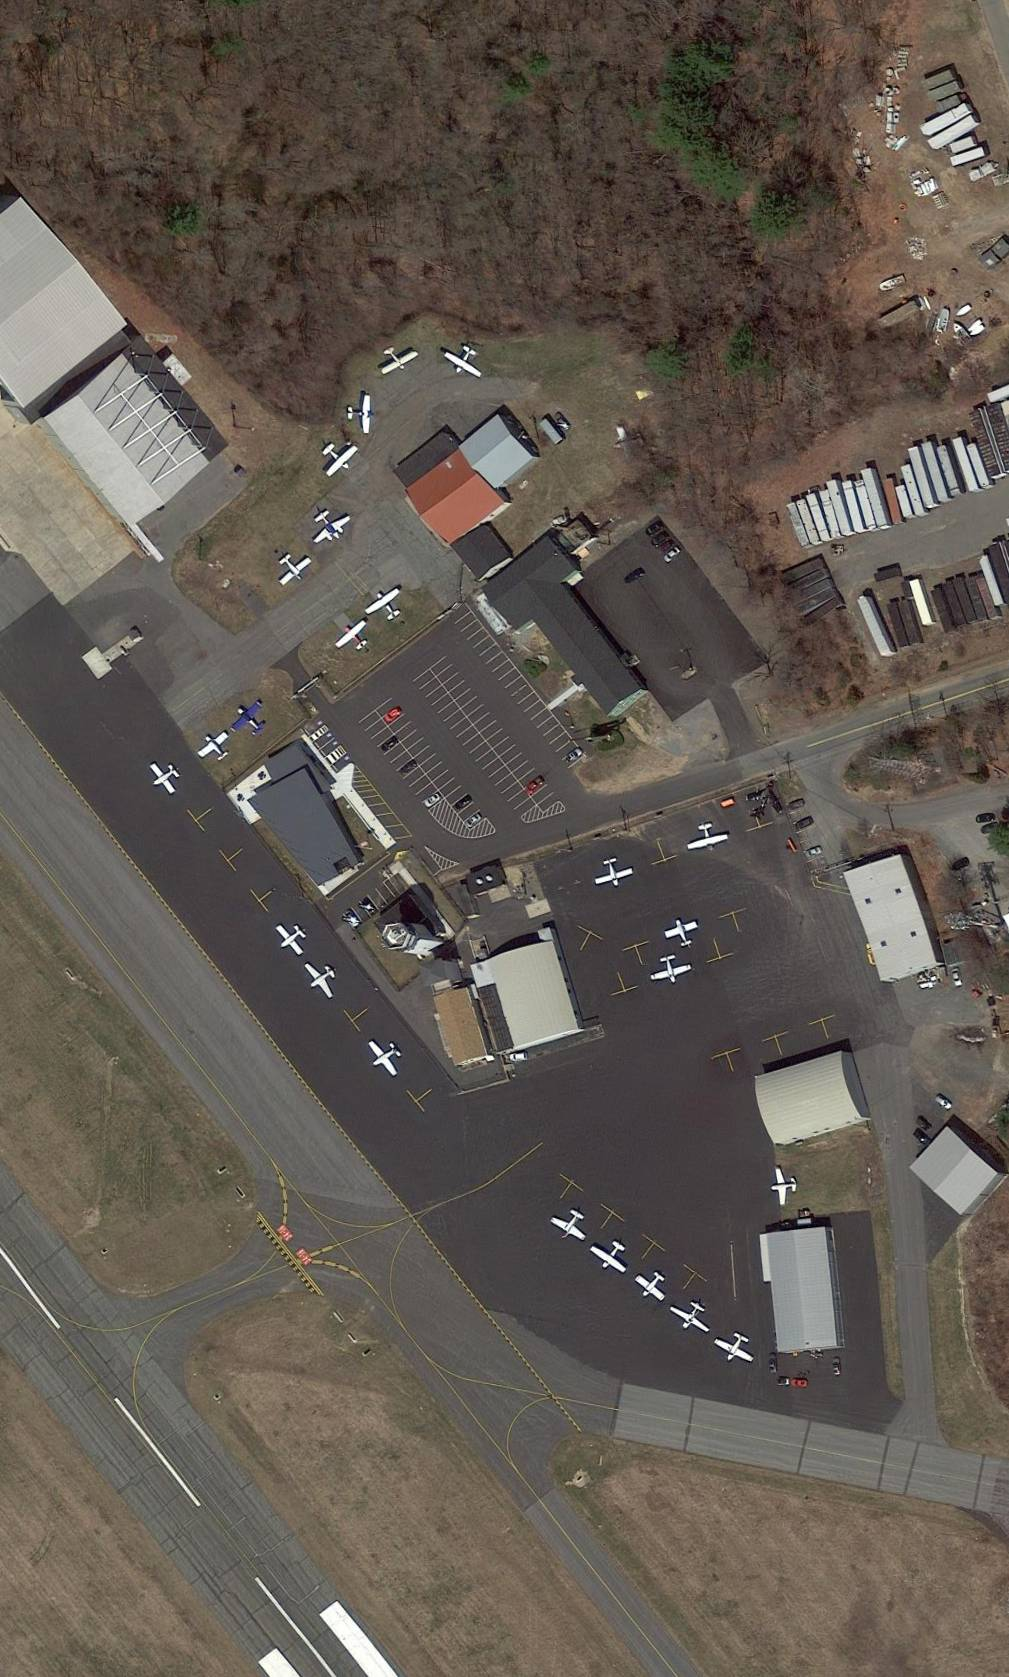plane: (302, 501, 356, 551), (314, 432, 364, 483), (665, 1292, 718, 1340), (361, 1031, 410, 1082), (225, 695, 273, 746), (362, 581, 411, 629), (298, 953, 346, 1003), (586, 1233, 638, 1278), (709, 1326, 761, 1370), (546, 1203, 596, 1247), (268, 546, 318, 591), (440, 340, 490, 383), (332, 615, 377, 659), (374, 338, 421, 380), (270, 916, 314, 959), (144, 753, 186, 799), (194, 726, 235, 770), (590, 854, 636, 892), (632, 1264, 673, 1306), (648, 952, 695, 989), (684, 819, 730, 856), (661, 912, 701, 951), (348, 394, 376, 436), (771, 1166, 798, 1206)
